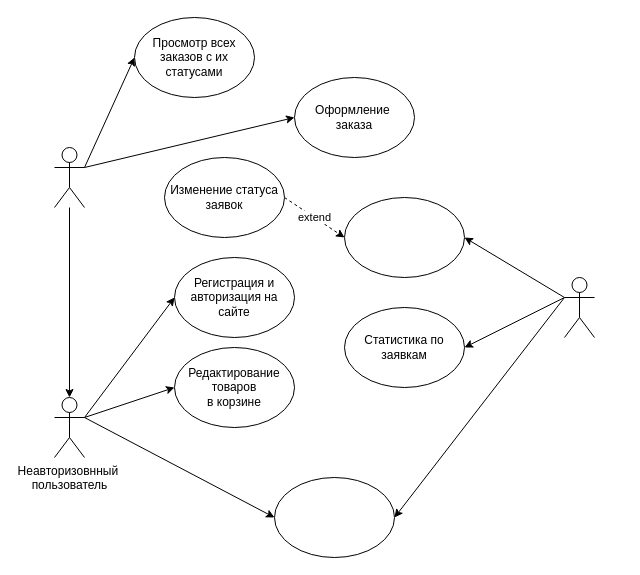
This 640x575 diagram has some shape labels left out. Here are the shapes that lost their labels. From the top down, the centre of each, then its label:
At (69,177): "Авторизованный пользователь".
At (404,237): "Список всех заявок".
At (579,307): "Администратор".
At (334,517): "Просмотр контента сайта".
